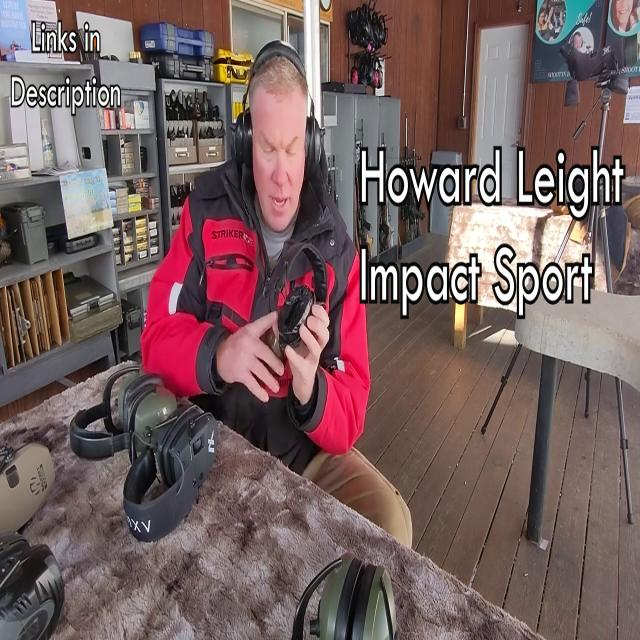earmuff: (227, 101, 257, 176), (303, 111, 327, 178)
